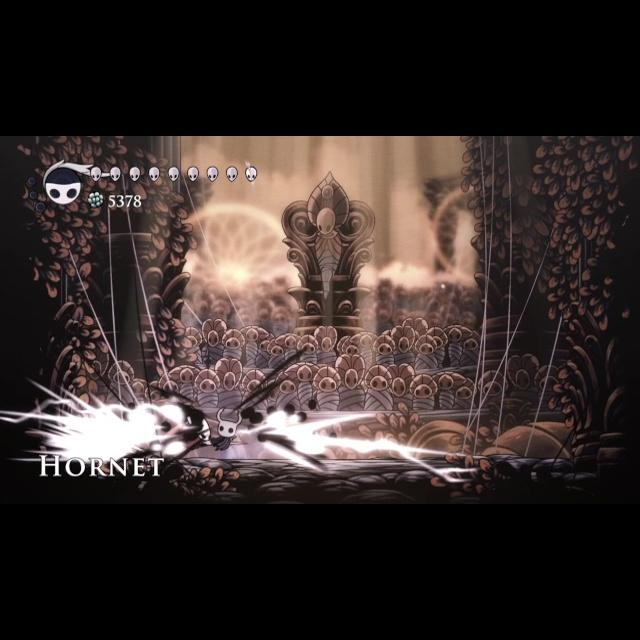Enemy: (157, 407, 210, 458)
PlayerDamaged: (210, 404, 244, 454)
